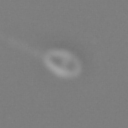normal: (1, 31, 46, 68)
